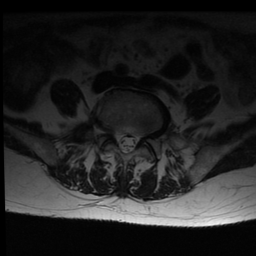CCS_normal: (123, 127, 131, 161)
LFS_stenosis: (140, 123, 147, 147)
LLS_normal: (132, 125, 140, 157)
RFS_stenosis: (106, 118, 114, 145)
RLS_normal: (114, 124, 123, 155)
